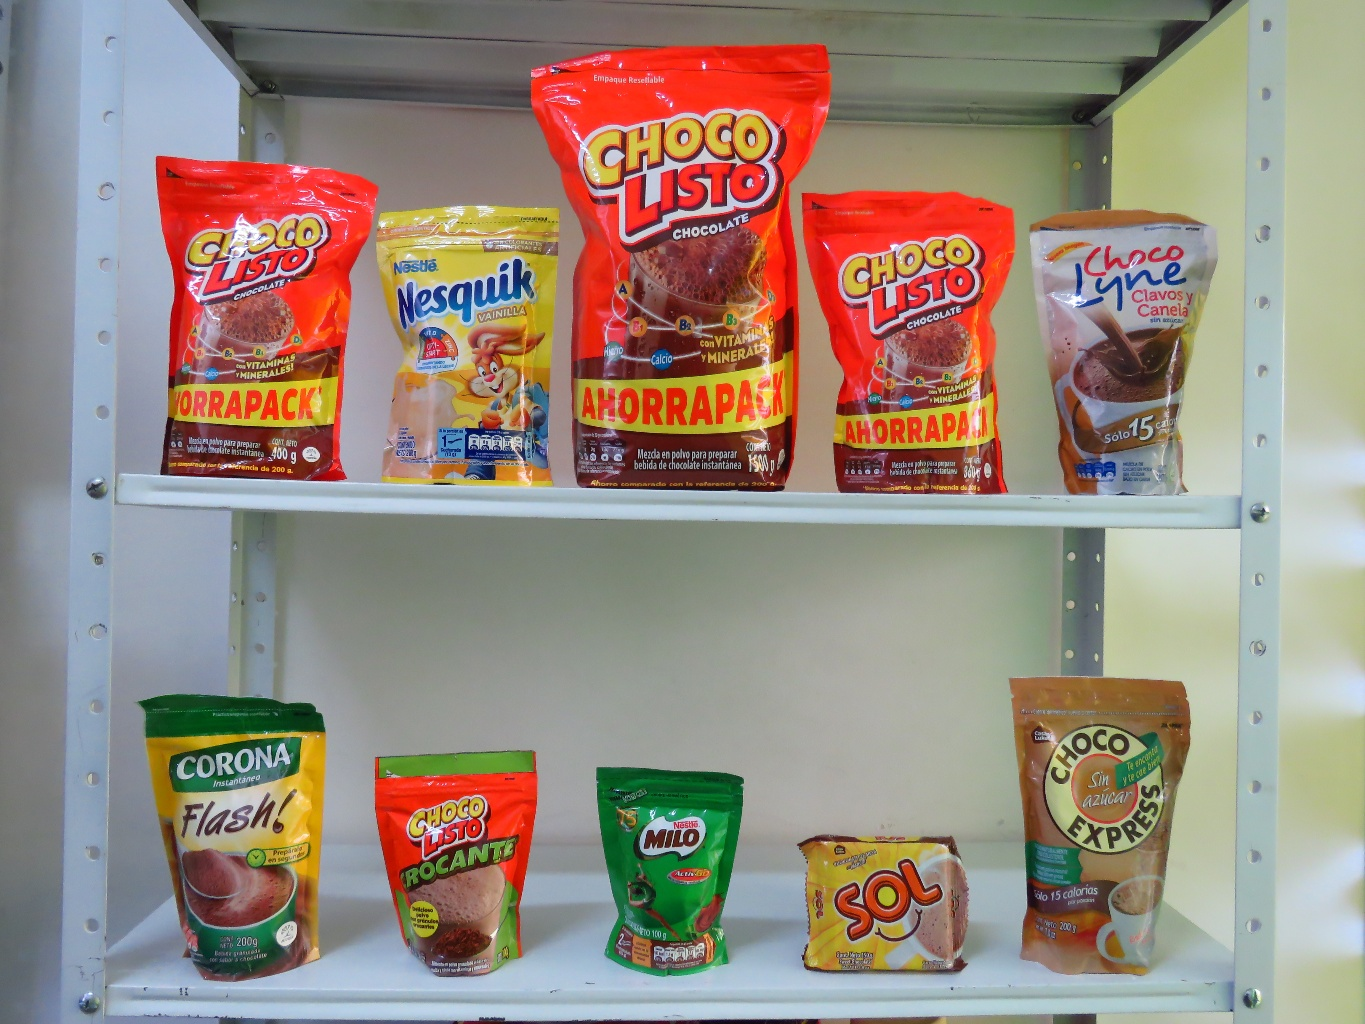COL0170102DYP10000: (374, 755, 540, 980)
COL0170103DYP1,500: (530, 42, 823, 497)
COL0170103DYP36000: (801, 191, 1024, 496)
COL0170103DYP40000: (157, 154, 375, 481)
COL0170203DYP10000: (595, 768, 747, 975)
COL0170306DYP20000: (376, 212, 555, 489)
